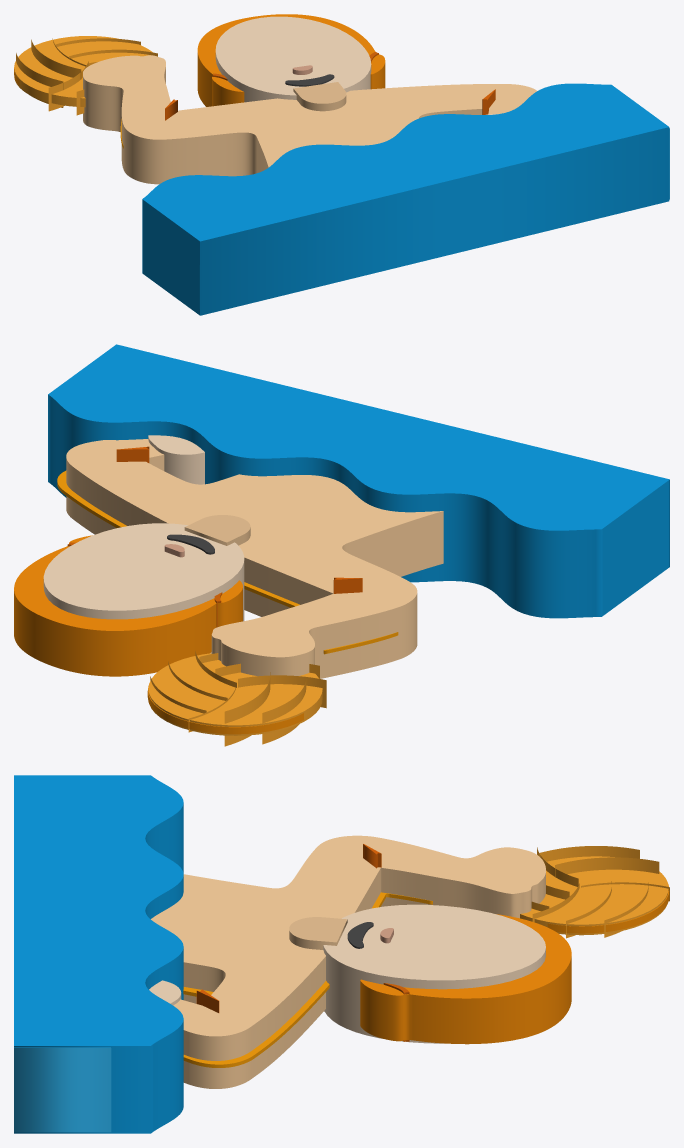
Rendered from emoji_u1f93d_1f3fb.glb.
The picture shows the model from 3 angles, top to bottom: view 1: azimuth 30°, elevation 25°; view 2: azimuth 150°, elevation 25°; view 3: azimuth 270°, elevation 25°; orthographic projection. The views are drawn at different scales.
Visible parts, largest first — view 1: emoji_u1f93d_1f3fb; view 2: emoji_u1f93d_1f3fb; view 3: emoji_u1f93d_1f3fb.
Part boxes in pixels (x1,y1,x2,y2): emoji_u1f93d_1f3fb: (14,14,669,315); emoji_u1f93d_1f3fb: (14,344,669,746); emoji_u1f93d_1f3fb: (14,775,669,1133).
Size of the model in its own units: 0.0331 by 0.005 by 0.0339.
